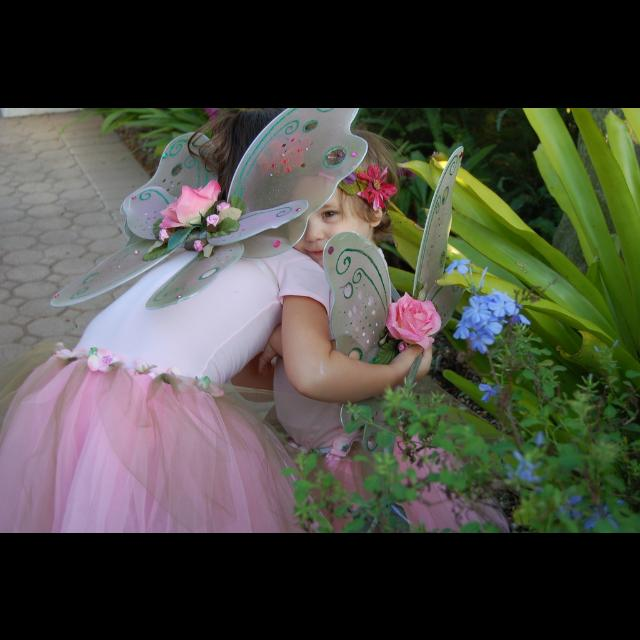Flower: (453, 288, 533, 356), (156, 182, 222, 242), (396, 294, 452, 350), (559, 491, 633, 531), (505, 428, 549, 488), (359, 162, 397, 212), (478, 384, 504, 402), (445, 260, 467, 274), (206, 212, 220, 226), (218, 202, 232, 210), (192, 241, 202, 251)
